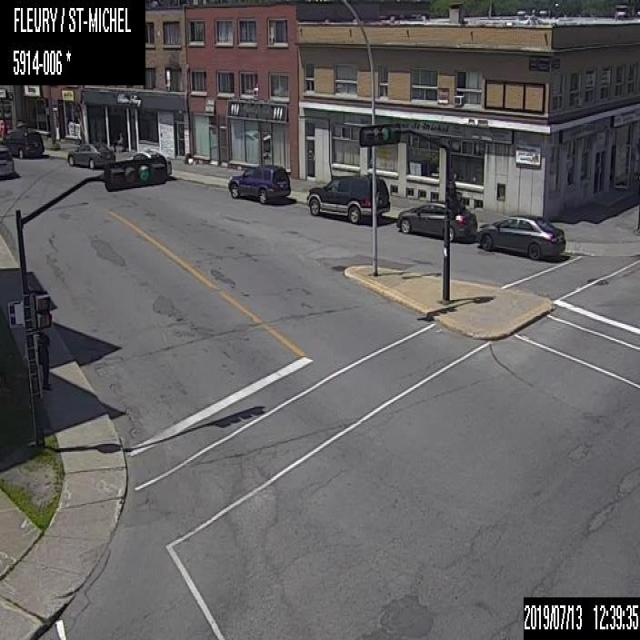pedestrian: (36, 330, 51, 390)
vehicle: (475, 213, 565, 260), (305, 173, 389, 222), (396, 200, 476, 240), (227, 164, 290, 202), (66, 140, 115, 168), (0, 129, 44, 158), (126, 146, 171, 174), (0, 143, 14, 180)
